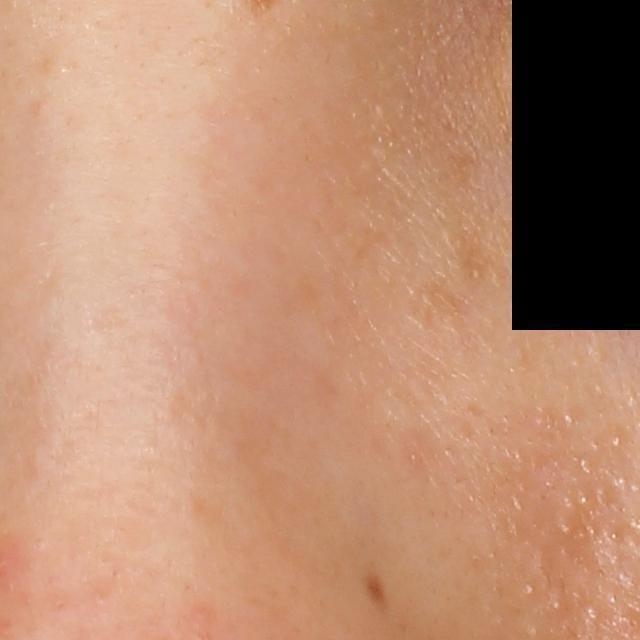melasma: (435, 147, 504, 292), (393, 266, 475, 341)
nevus: (362, 571, 393, 611)
